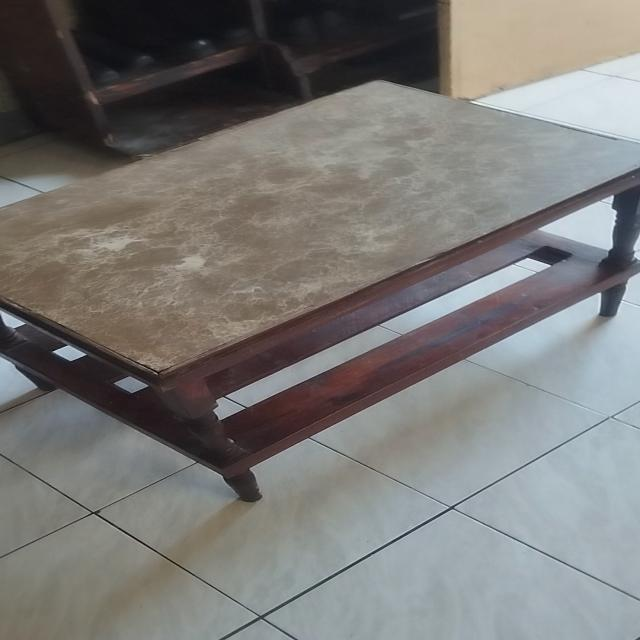table: (0, 78, 640, 508)
